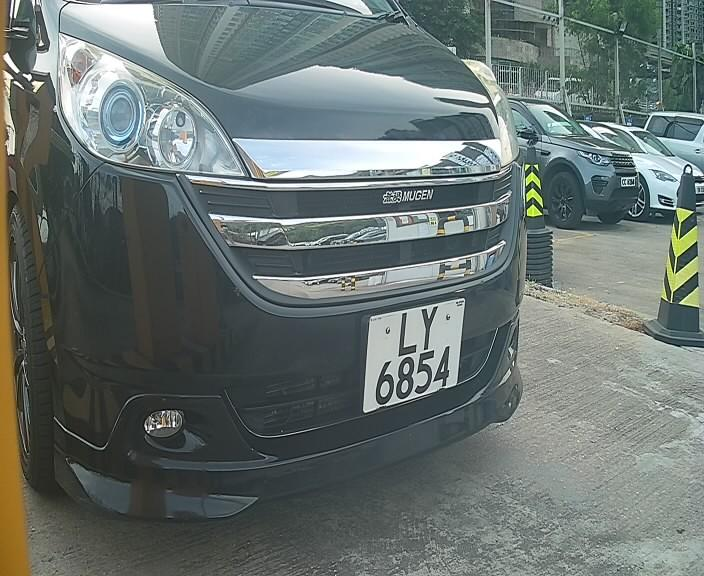License Plate: (353, 294, 466, 420)
